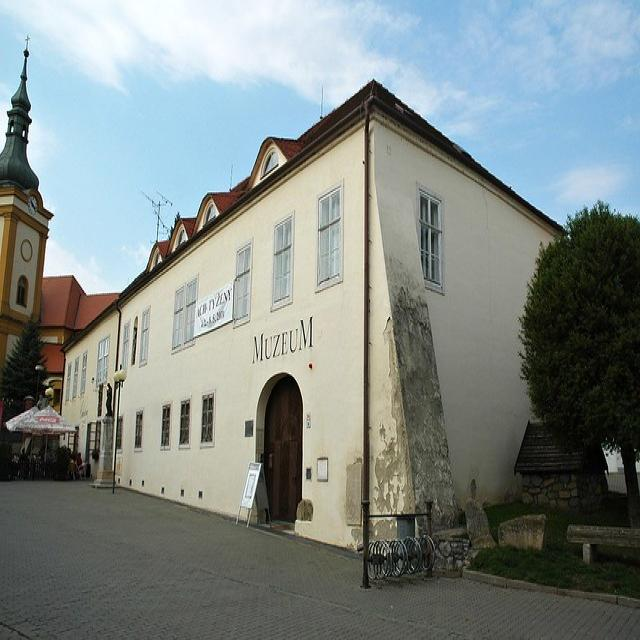building: (64, 71, 577, 563)
